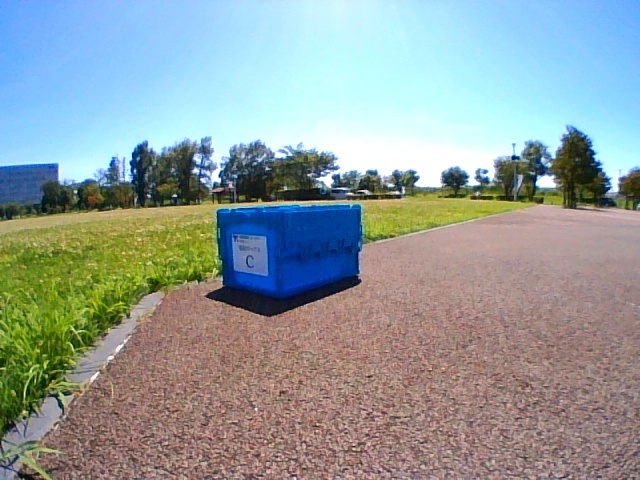blue_box: (217, 205, 361, 298)
tag_c: (234, 238, 265, 273)
